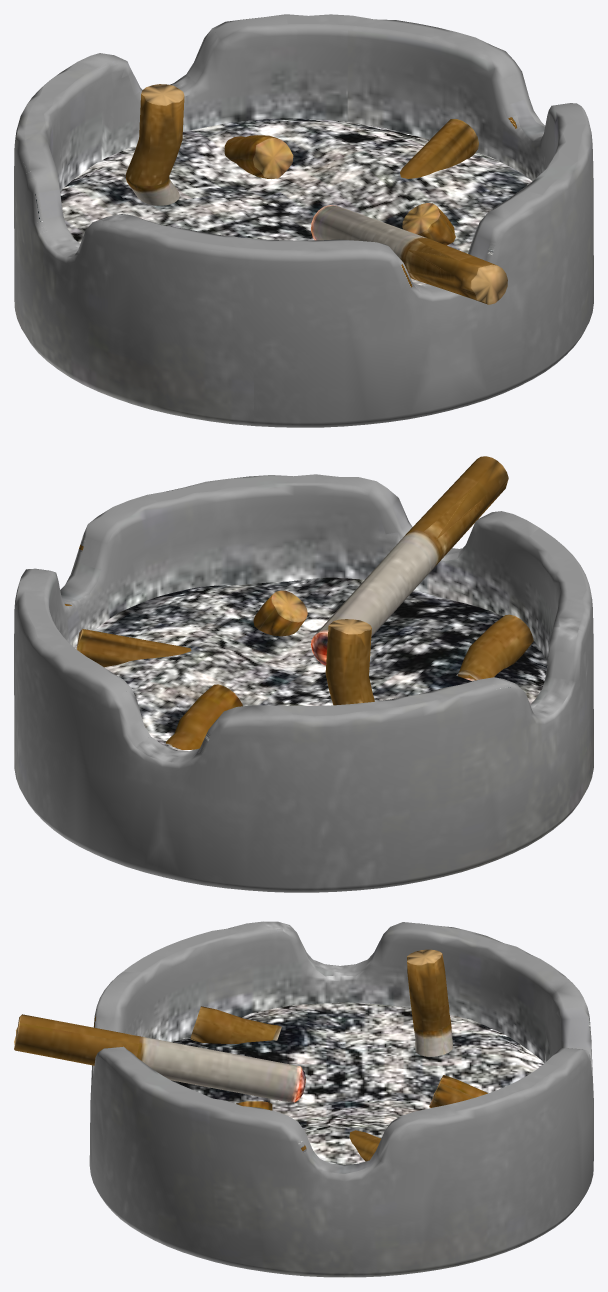
File: ashtray.glb
3 renders of one model, top to bottom at view 1: azimuth 30°, elevation 25°; view 2: azimuth 150°, elevation 25°; view 3: azimuth 270°, elevation 25°, orthographic. The views are drawn at different scales.
Visible parts, largest first — view 1: Ashtray; view 2: Ashtray; view 3: Ashtray.
Boxes of the visible parts, x1=… form: Ashtray: x1=14, y1=14, x2=593, y2=427; Ashtray: x1=14, y1=456, x2=593, y2=892; Ashtray: x1=14, y1=921, x2=593, y2=1277.
Bounding box in the file's own units: 61.52 × 24.74 × 70.78.
1 material, 1 textured.
